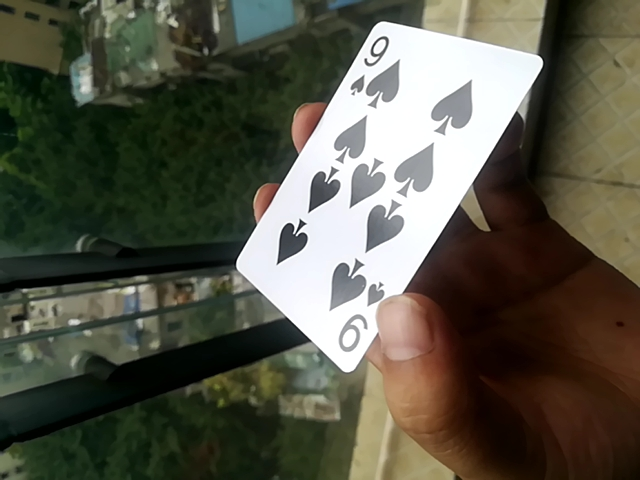ht 9: (235, 21, 549, 382)
